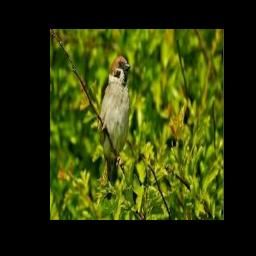Sparrow: (99, 56, 131, 200)
